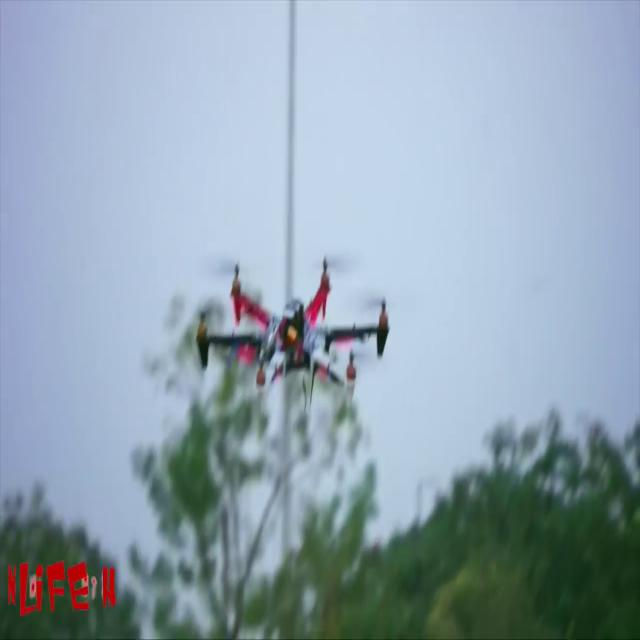drone: (178, 243, 392, 456)
